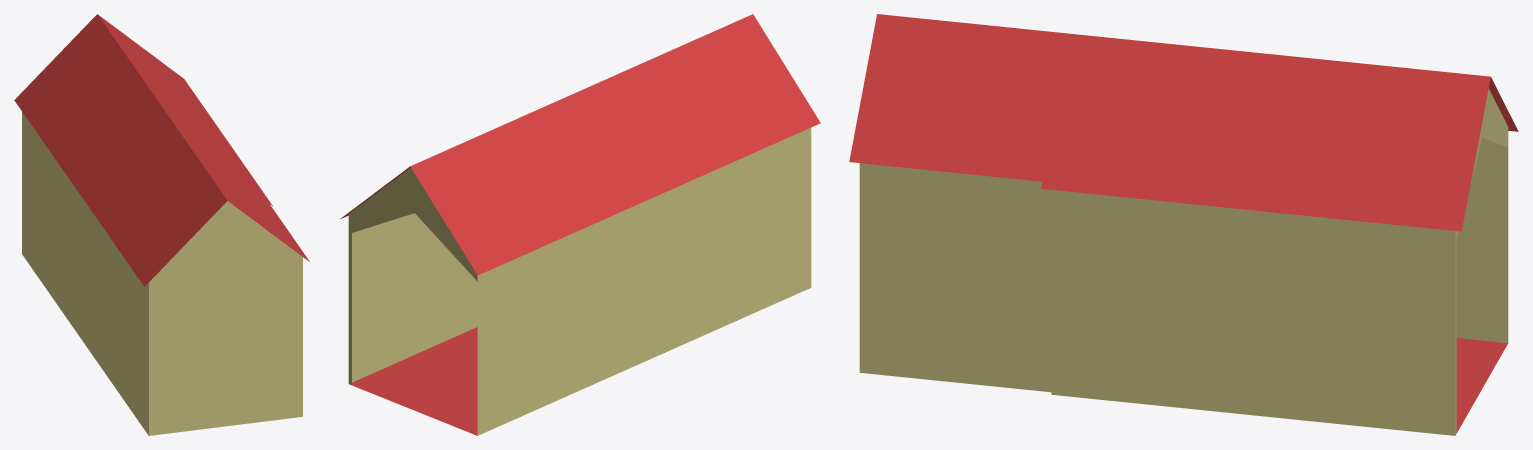
3 renders of one model, left to right at view 1: azimuth 30°, elevation 25°; view 2: azimuth 150°, elevation 25°; view 3: azimuth 270°, elevation 25°, orthographic. The views are drawn at different scales.
Bounding box in the file's own units: 22.23 × 38.72 × 19.95.
